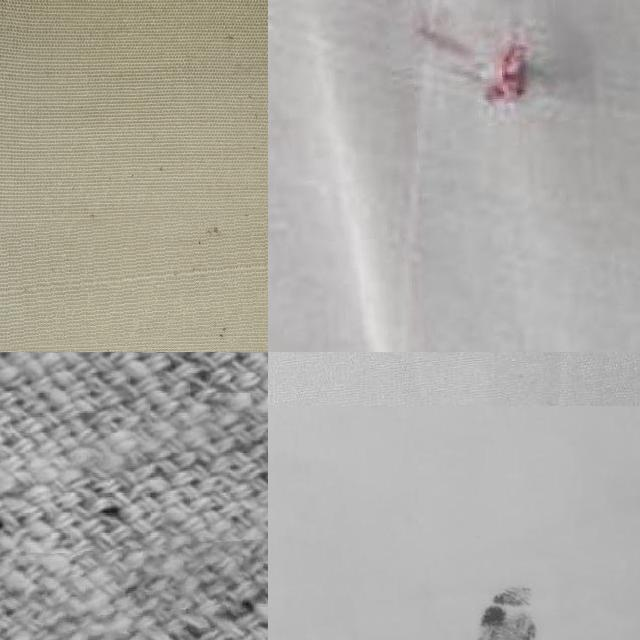Hole: (400, 545, 626, 640)
Thread_other: (268, 0, 640, 352), (0, 208, 268, 349), (0, 540, 268, 640)
